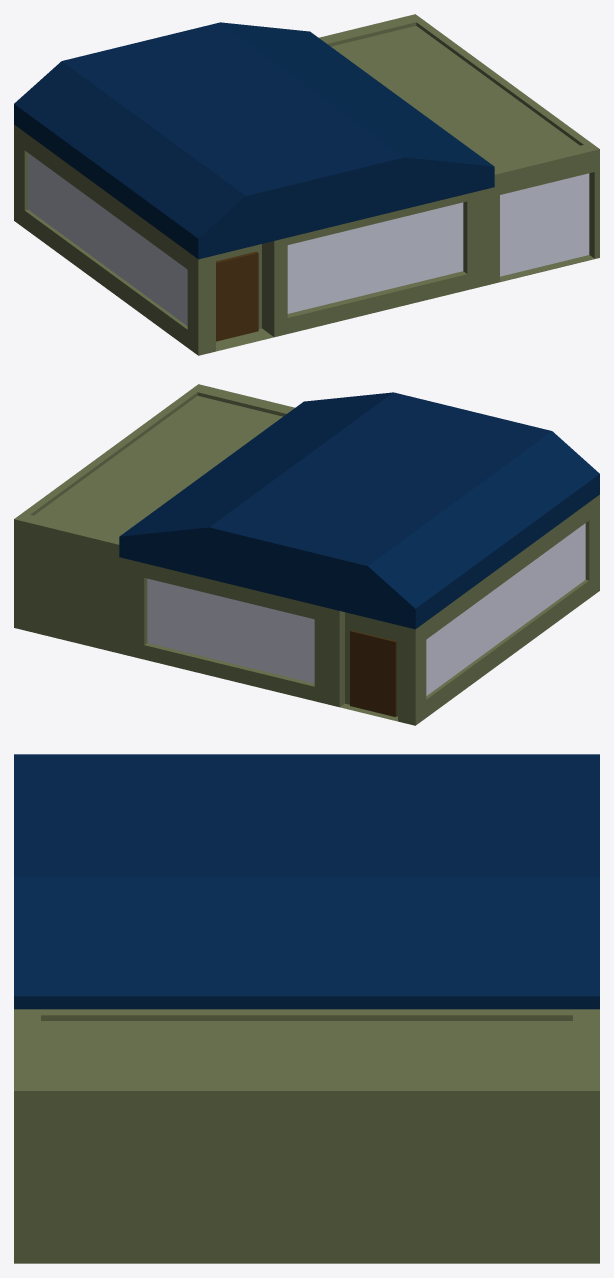
The model's file is house 2 L.fbx.
3 views of the same model, one above another, from view 1: azimuth 30°, elevation 25°; view 2: azimuth 150°, elevation 25°; view 3: azimuth 270°, elevation 25° (orthographic). The views are drawn at different scales.
Parts seen in each view (by area): view 1: Cube; view 2: Cube; view 3: Cube.
Part boxes in pixels (x1=…): Cube: x1=14, y1=14, x2=599, y2=355; Cube: x1=14, y1=384, x2=599, y2=725; Cube: x1=14, y1=754, x2=599, y2=1263.
Size of the model in its own units: 718 by 254 by 572.
